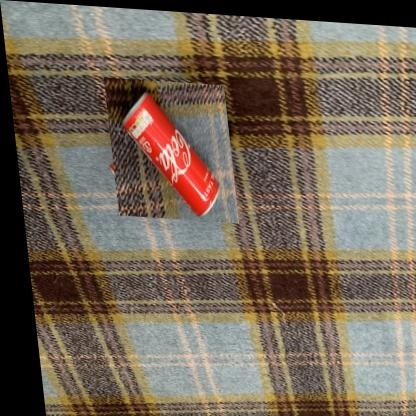trash: (122, 93, 218, 215)
